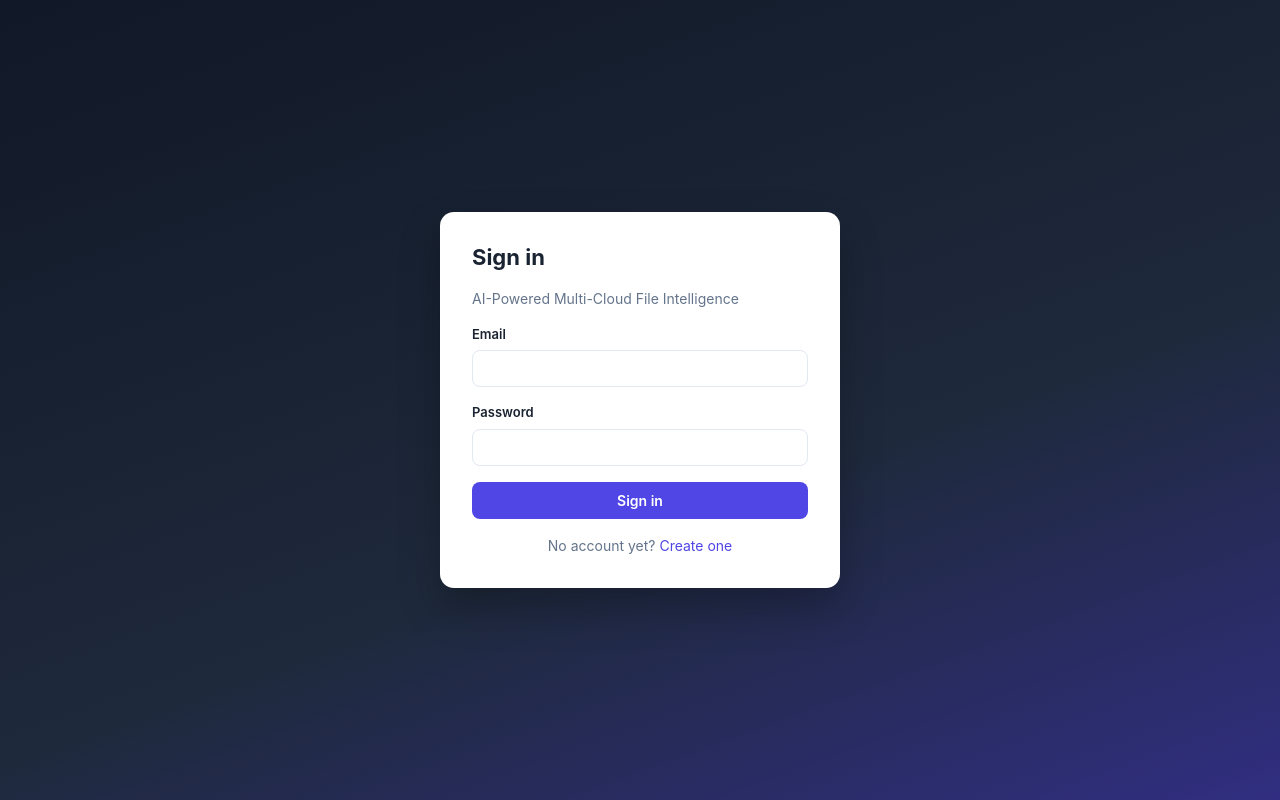
it: LoginPage › shows an API error when login fails
The width and height of the screenshot is (1280, 800).
Type "user@example.com" into the field labelled "Email" at (640, 369), box [472,350,808,387]
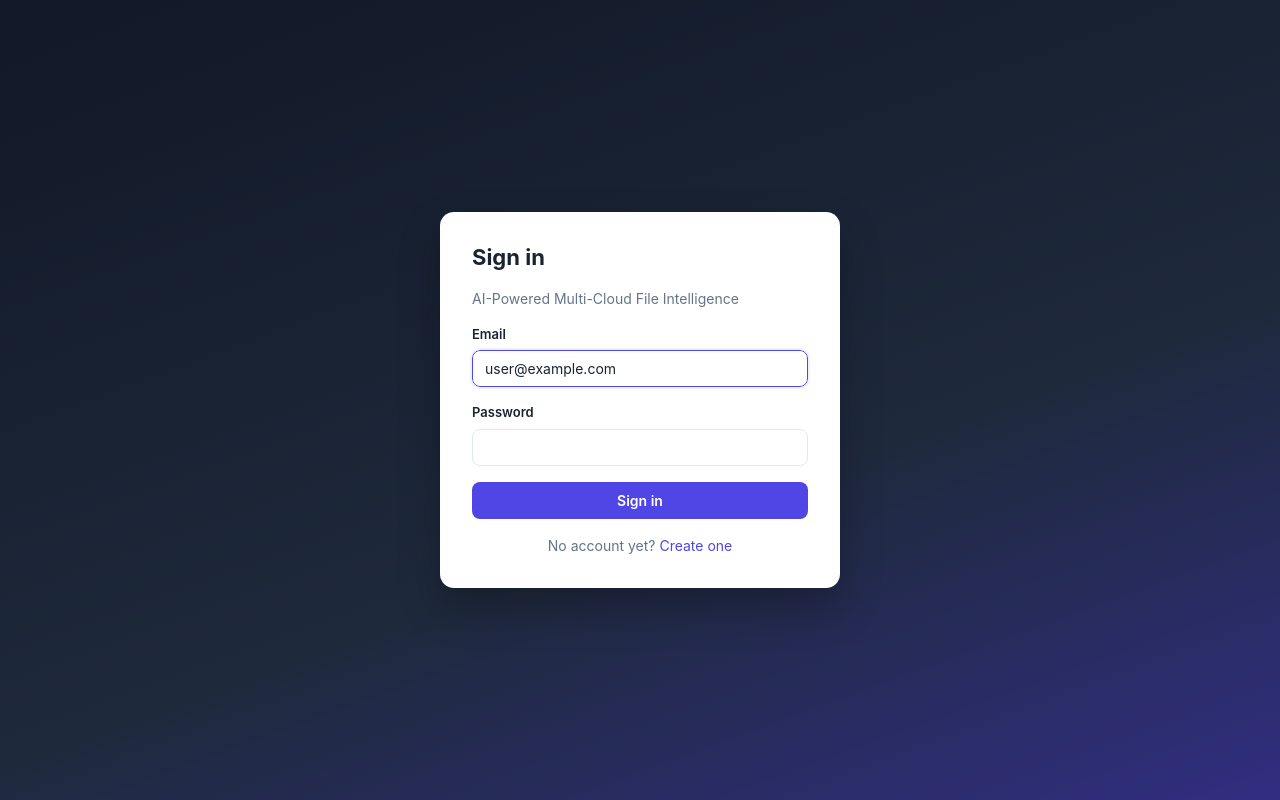
Type "wrongpass" into the password field labelled "Password" at (640, 447), box [472,429,808,466]
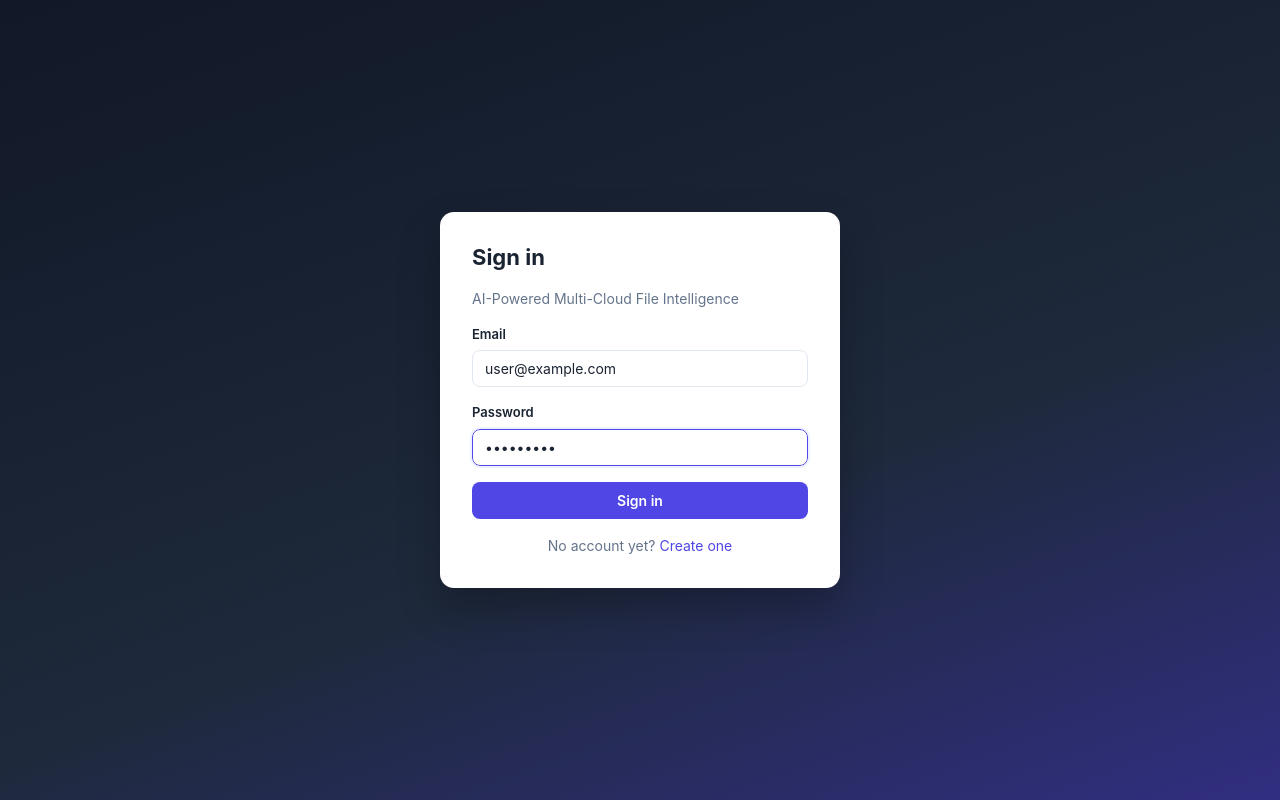
Click the button "Sign in" at (640, 500), box [472,482,808,519]
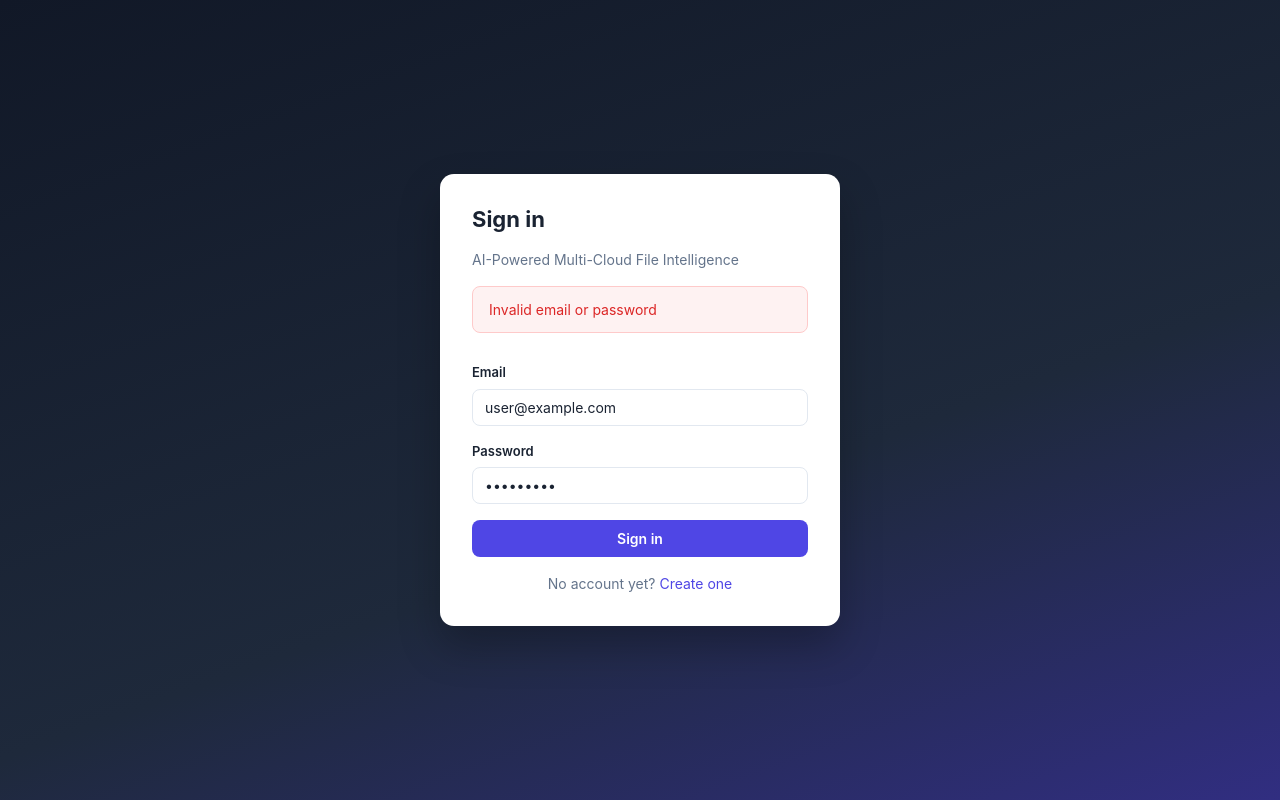
Now the text "Invalid email or password" is shown, box [472,286,808,333]
